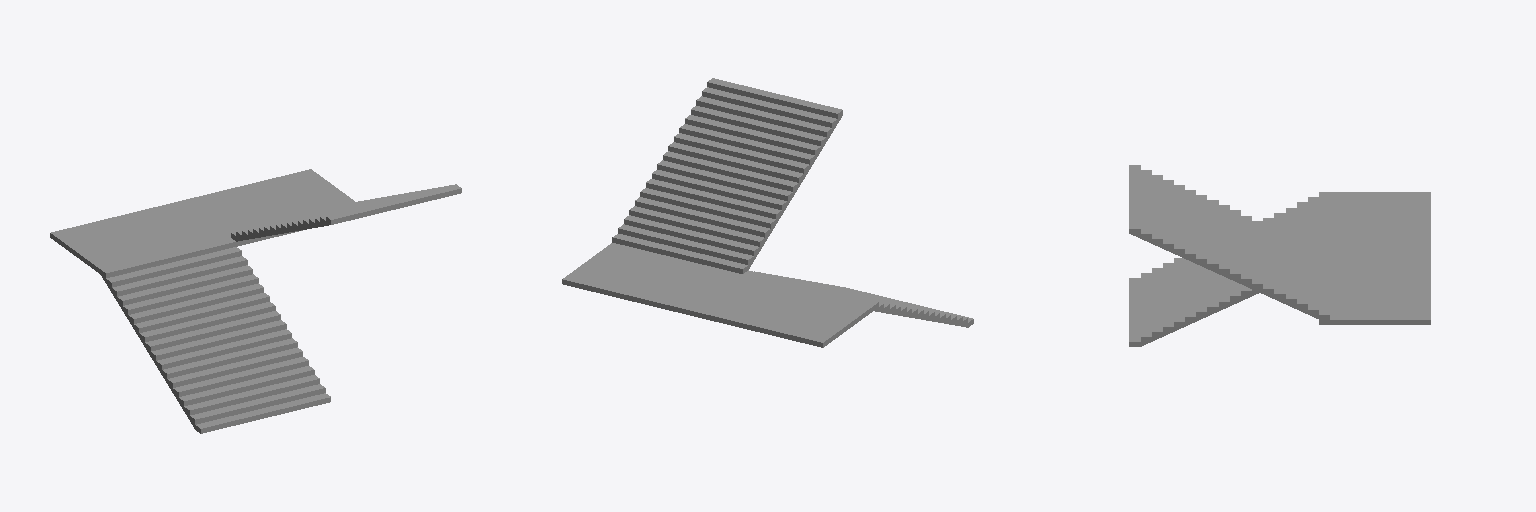
The model's file is SingleStairs_NoFloor.obj.
3 renders of one model, left to right at view 1: azimuth 30°, elevation 25°; view 2: azimuth 150°, elevation 25°; view 3: azimuth 270°, elevation 25°, orthographic.
Visible parts, largest first — view 1: SingleStairs_NoFloor; view 2: SingleStairs_NoFloor; view 3: SingleStairs_NoFloor.
Boxes of the visible parts, x1,y1,x2,y2 form: SingleStairs_NoFloor: [50, 169, 461, 433]; SingleStairs_NoFloor: [562, 78, 973, 347]; SingleStairs_NoFloor: [1129, 165, 1430, 346].
Bounding box in the file's own units: 6 × 4 × 6.